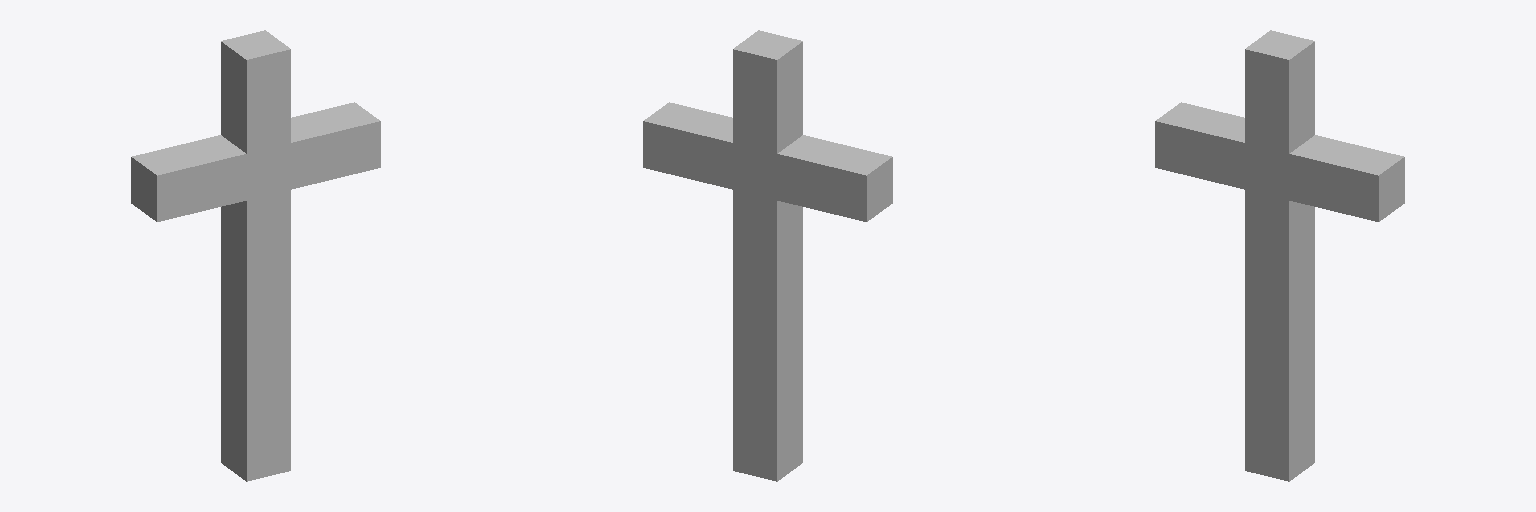
Rendered from Cross.obj.
3 views of the same model, side by side, from view 1: azimuth 30°, elevation 25°; view 2: azimuth 150°, elevation 25°; view 3: azimuth 330°, elevation 25° (orthographic).
Visible parts, largest first — view 1: Cube; view 2: Cube; view 3: Cube.
Boxes of the visible parts, x1,y1,x2,y2 form: Cube: [131, 30, 380, 481]; Cube: [643, 30, 892, 481]; Cube: [1155, 30, 1404, 481].
Bounding box in the file's own units: 10 × 18.03 × 2.